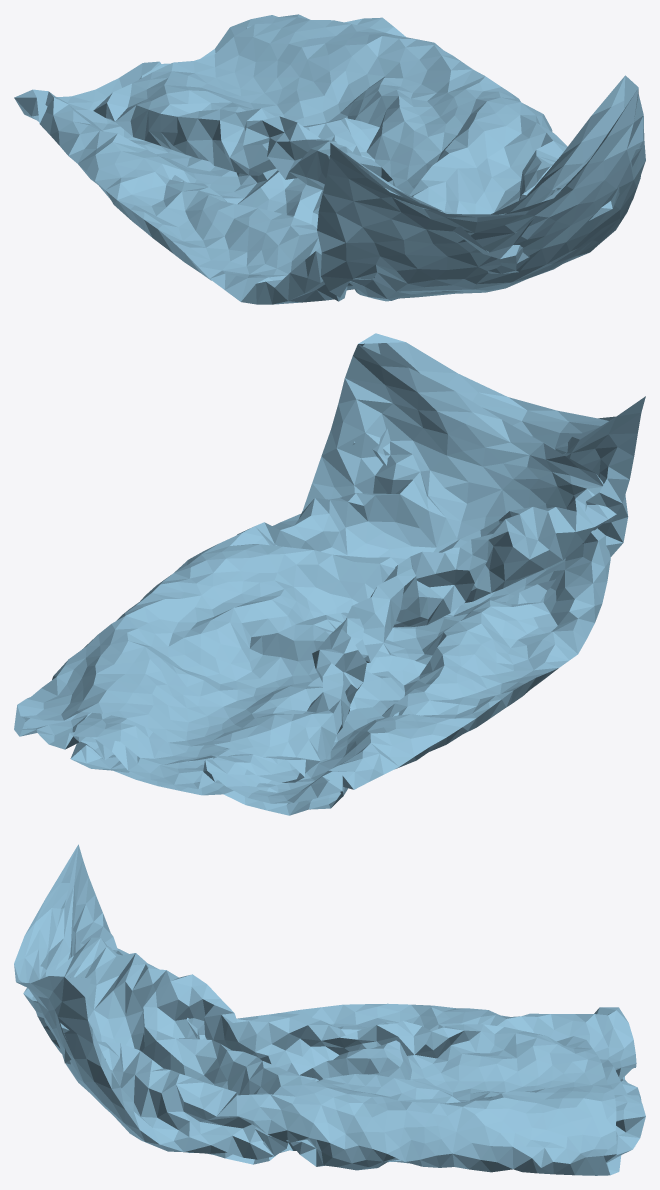
Rendered from frame_05.glb.
The picture shows the model from 3 angles, top to bottom: view 1: azimuth 30°, elevation 25°; view 2: azimuth 150°, elevation 25°; view 3: azimuth 270°, elevation 25°; orthographic projection. The views are drawn at different scales.
Visible parts, largest first — view 1: frame_05.obj; view 2: frame_05.obj; view 3: frame_05.obj.
Part boxes in pixels (x1,y1,x2,y2): frame_05.obj: [14, 14, 645, 304]; frame_05.obj: [14, 333, 645, 815]; frame_05.obj: [14, 844, 645, 1175].
Size of the model in its own units: 0.9686 by 0.5585 by 1.63.
